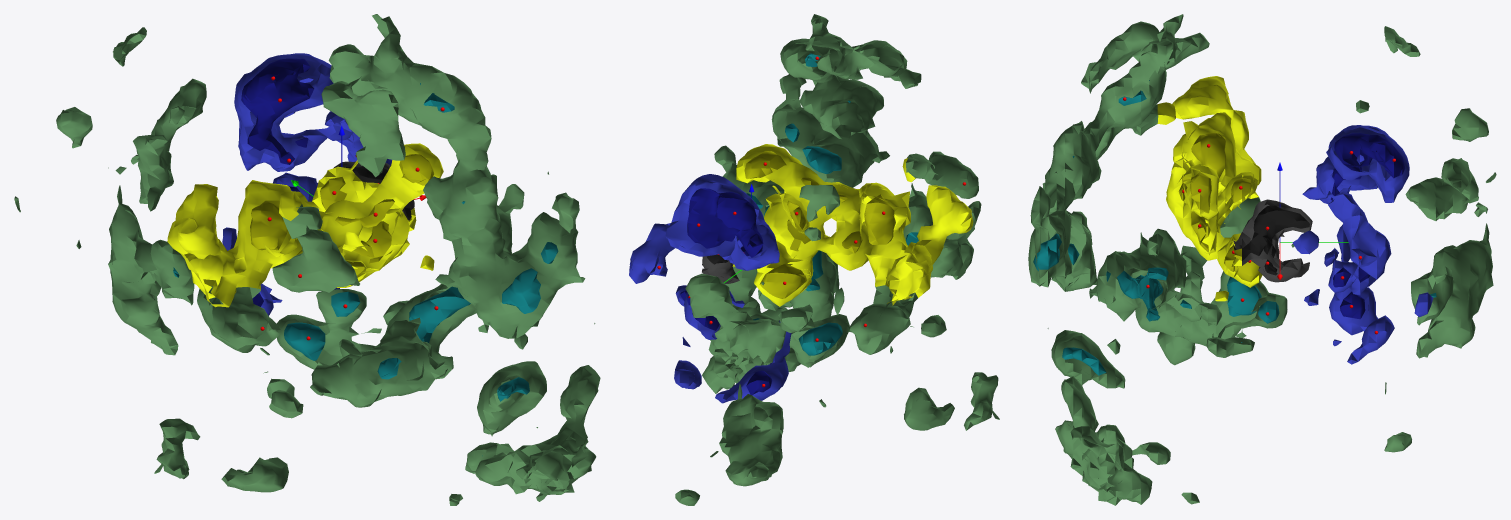
The picture shows the model from 3 angles, left to right: view 1: azimuth 30°, elevation 25°; view 2: azimuth 150°, elevation 25°; view 3: azimuth 270°, elevation 25°; orthographic projection. The views are drawn at different scales.
Visible parts, largest first — view 1: skfb_offset; view 2: skfb_offset; view 3: skfb_offset.
Part boxes in pixels (<box>): skfb_offset: <box>14,14,600,505</box>; skfb_offset: <box>629,14,999,505</box>; skfb_offset: <box>1028,14,1496,505</box>.
Size of the model in its own units: 21916 by 27973 by 26235.
